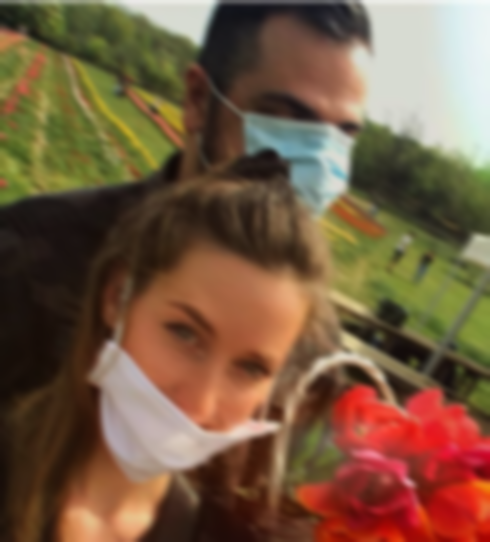mask_weared_incorrect: (92, 190, 312, 482), (182, 2, 379, 224)
